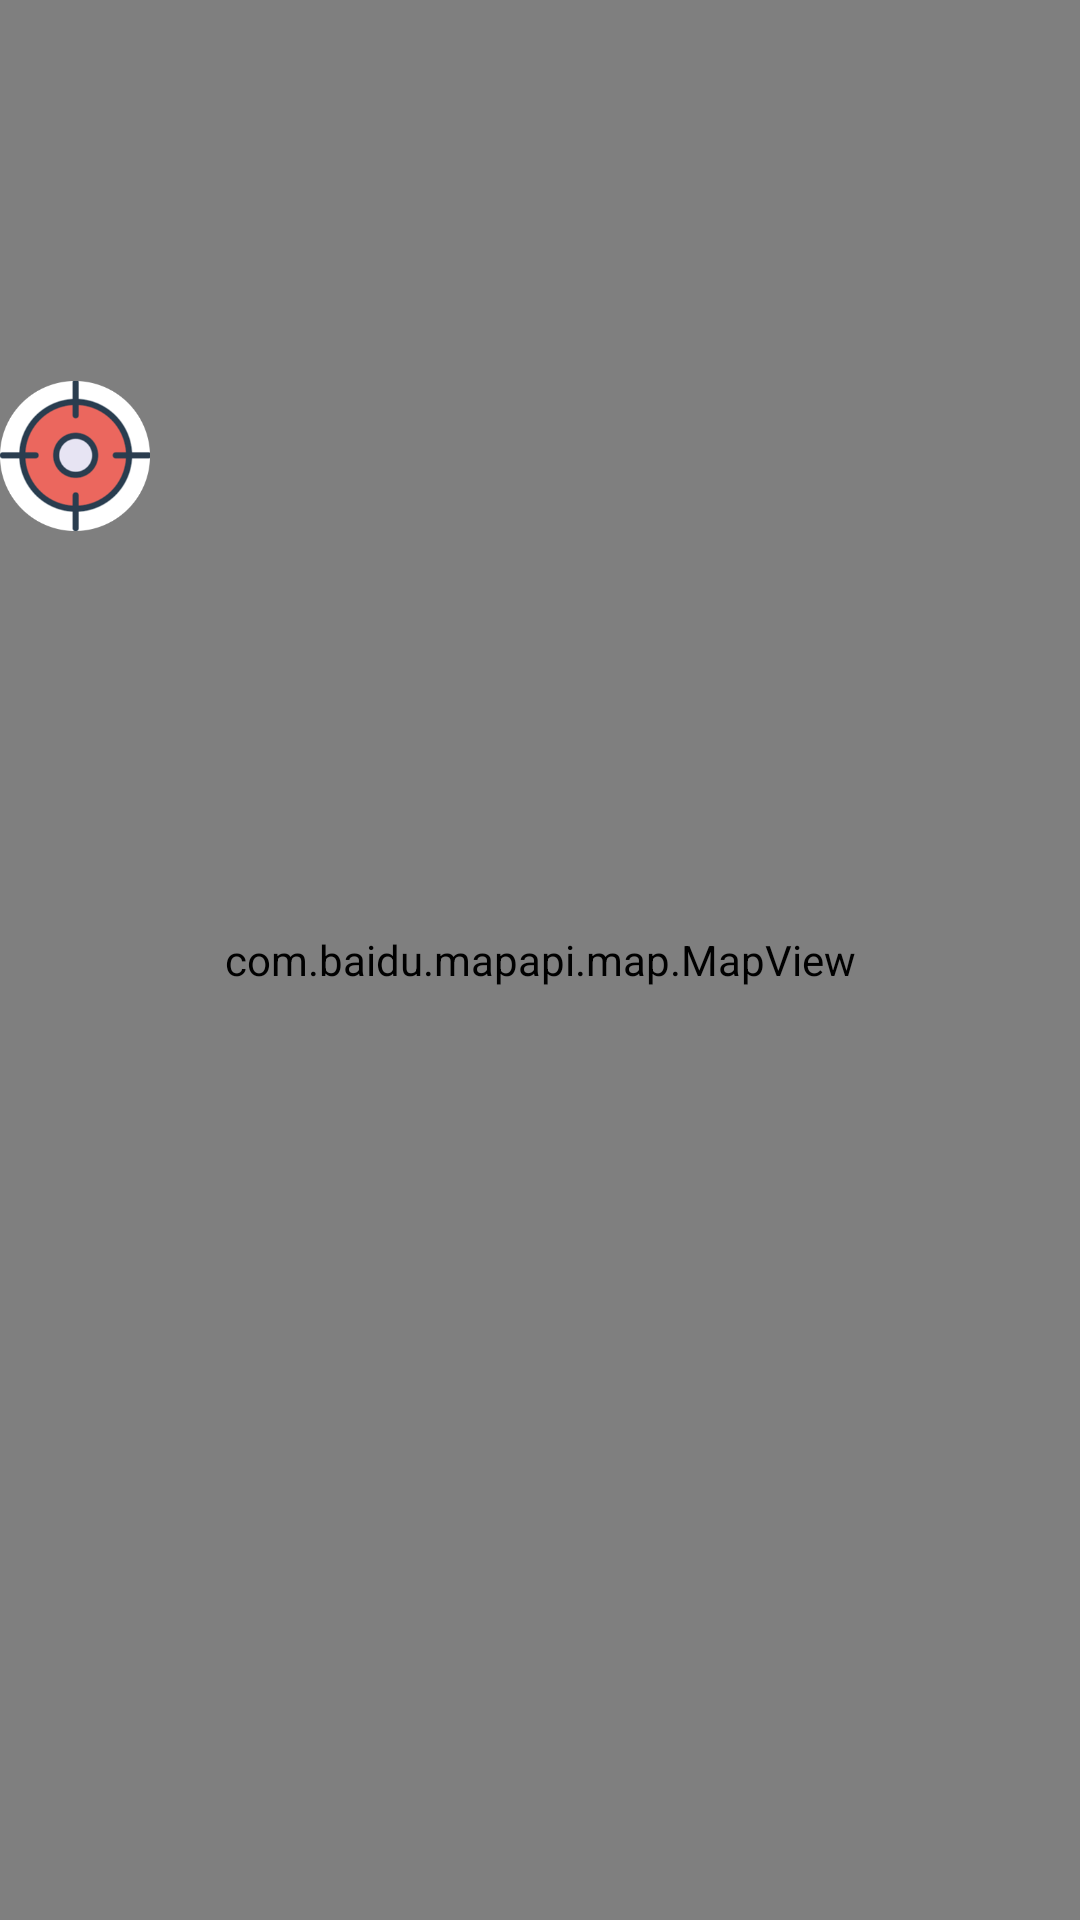

Named icons in this screenshot (1080w x 1920h) and their bounding boxes, (x1, y1, x2, y2):
mlocbtn: (0, 381, 150, 531)
